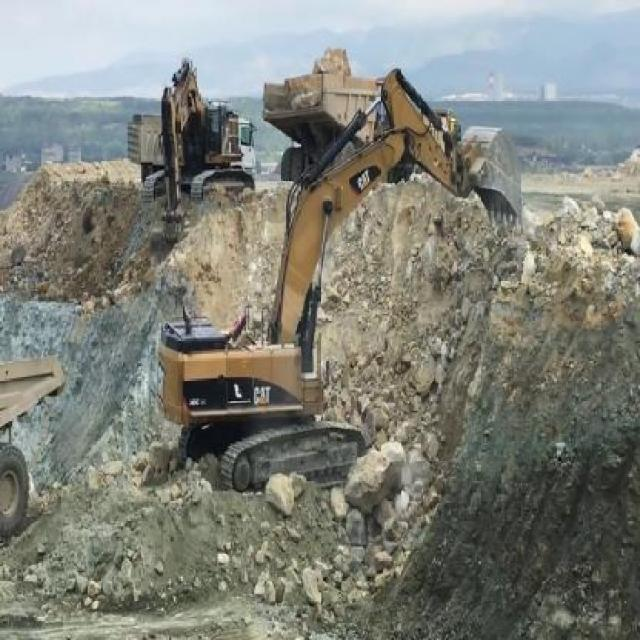Dump Truck: (260, 53, 378, 179)
Excavator: (150, 67, 524, 491), (155, 58, 256, 245)
